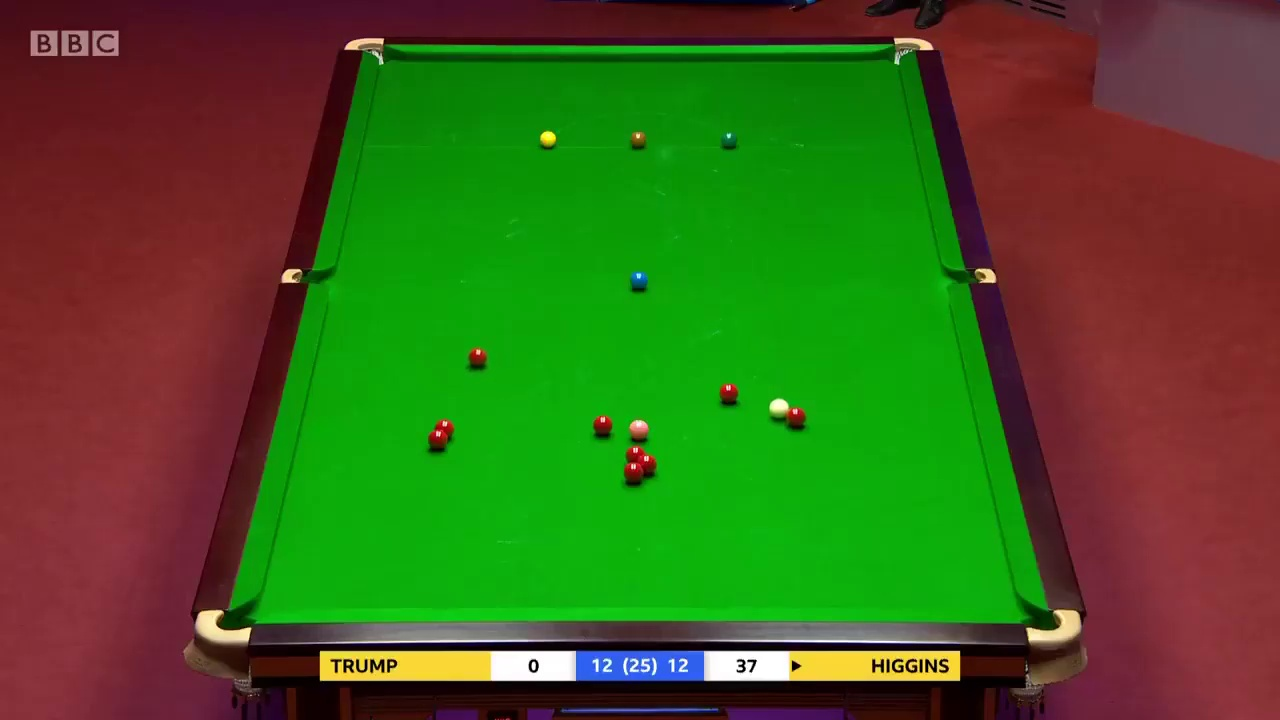blue: (629, 270, 649, 291)
brown: (627, 128, 647, 149)
green: (719, 128, 739, 150)
pink: (631, 418, 650, 440)
red: (468, 342, 488, 368), (621, 462, 644, 484), (786, 407, 807, 428), (428, 428, 445, 453), (593, 417, 612, 437), (719, 385, 740, 403)
white: (769, 395, 787, 421)
yellow: (537, 128, 559, 148)
